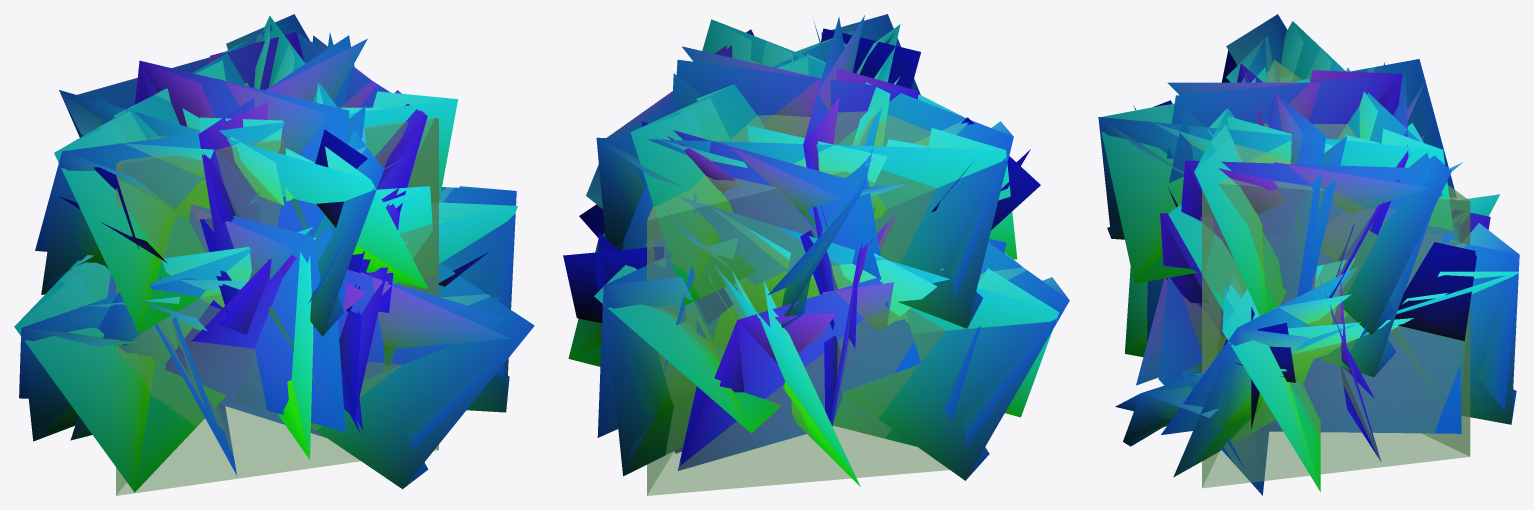
Rendered from generibush_tiny.dae.
3 renders of one model, left to right at view 1: azimuth 30°, elevation 25°; view 2: azimuth 150°, elevation 25°; view 3: azimuth 270°, elevation 25°, orthographic. The views are drawn at different scales.
Visible parts, largest first — view 1: generibush_tiny_a40, generibush_tiny_a300, Colmesh-1; view 2: generibush_tiny_a40, generibush_tiny_a300, Colmesh-1; view 3: generibush_tiny_a300, generibush_tiny_a40, Colmesh-1.
Boxes of the visible parts, bbox=[...] form: generibush_tiny_a40: bbox=[14, 14, 534, 492]; generibush_tiny_a300: bbox=[14, 14, 533, 492]; Colmesh-1: bbox=[116, 106, 438, 495]; generibush_tiny_a40: bbox=[569, 14, 1069, 486]; generibush_tiny_a300: bbox=[563, 14, 1068, 486]; Colmesh-1: bbox=[647, 60, 949, 495]; generibush_tiny_a300: bbox=[1098, 14, 1519, 495]; generibush_tiny_a40: bbox=[1098, 14, 1519, 495]; Colmesh-1: bbox=[1202, 60, 1470, 488].
Size of the model in its own units: 0.8726 by 0.7025 by 0.6792.
